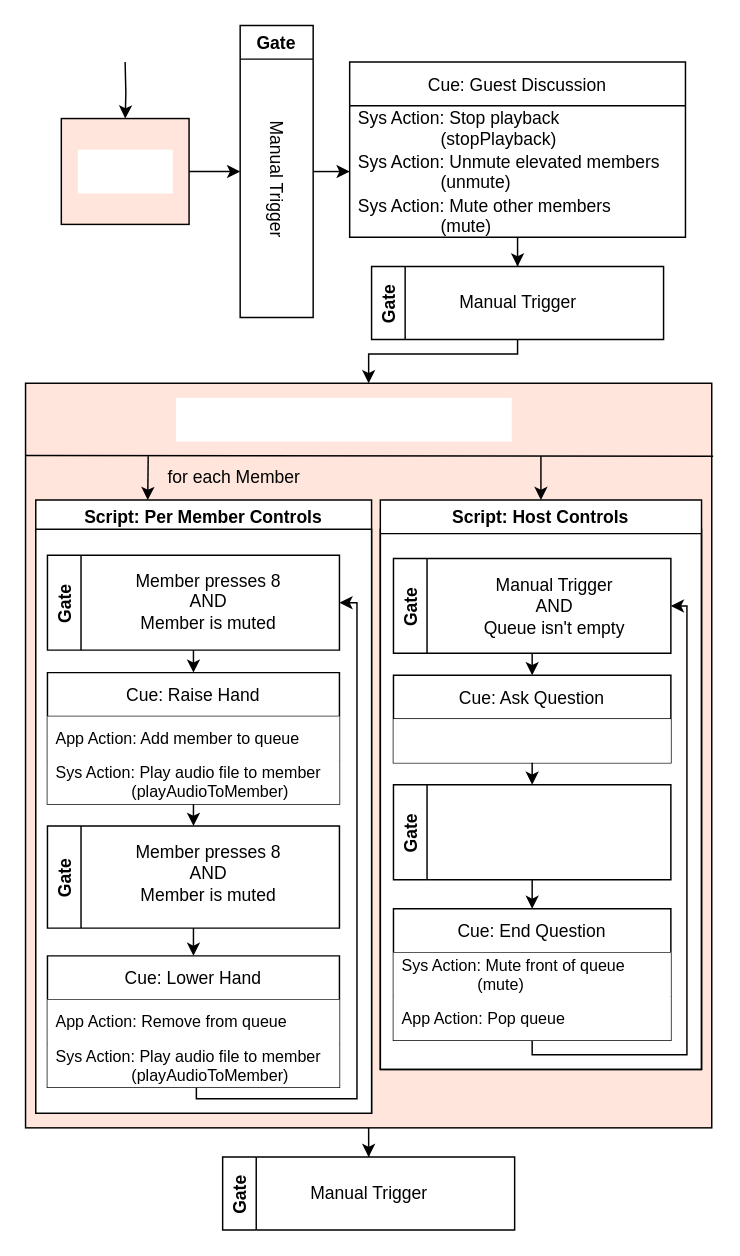
The diagram is 740 pixels wide and 1256 high, and some of its shapes have lost their labels. The shapes that lost their labels are listed below. From the top down, each one's centre as x and y in pixels, then its label:
the point at 124,171: Script: Pre-Show
the point at 343,419: Script: Audience Q&A
the point at 531,740: Sys Action: Unmute front of queue (unmute)
the point at 553,831: Timed Trigger: 30 secs OR Manual Trigger
